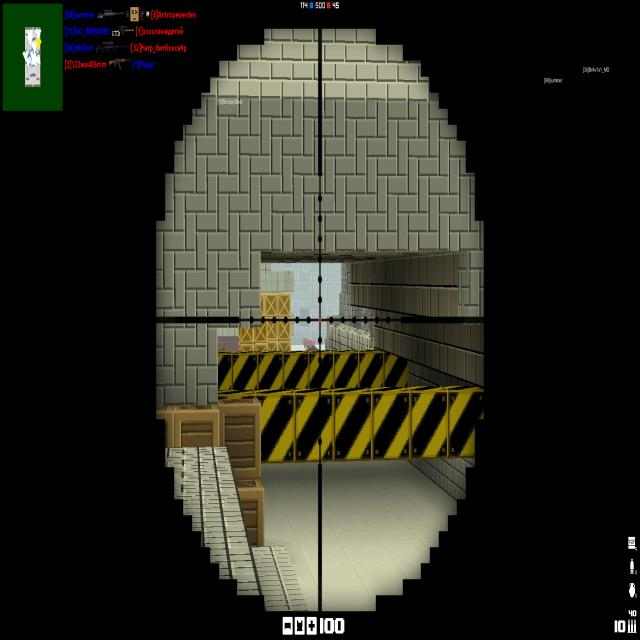player: (302, 336, 316, 347)
